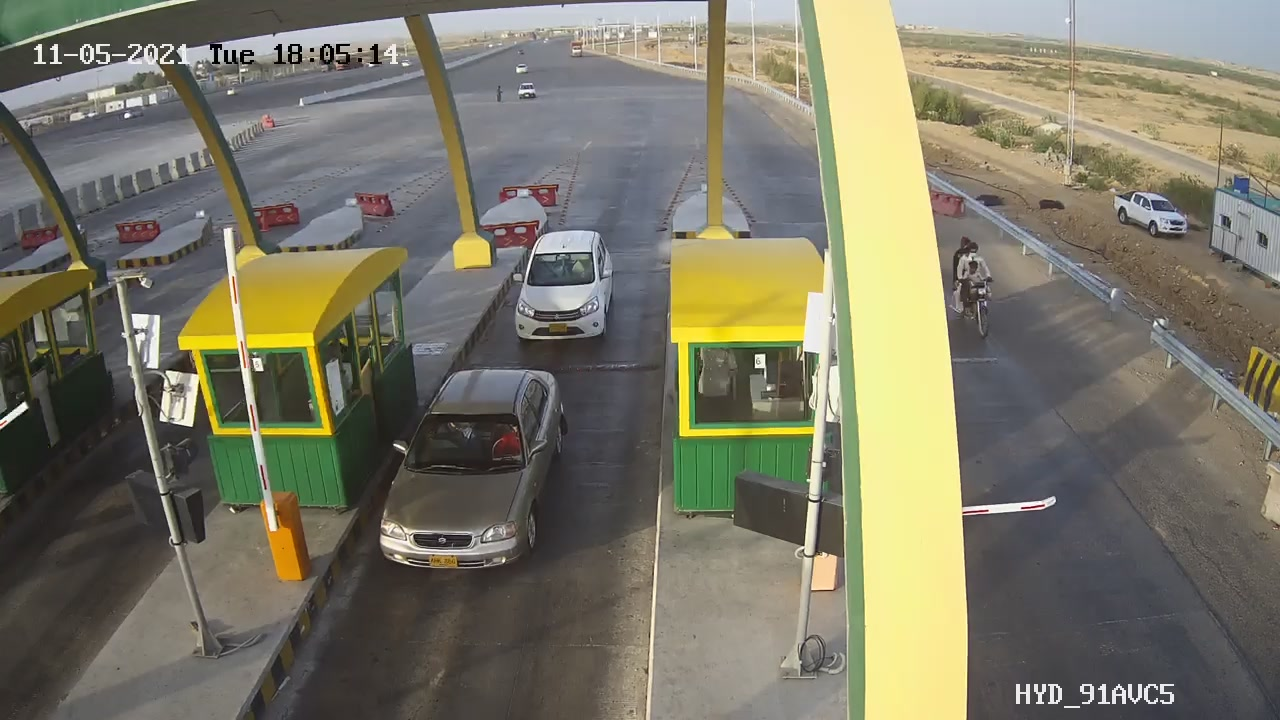F1: (356, 356, 578, 594), (496, 225, 639, 357)
